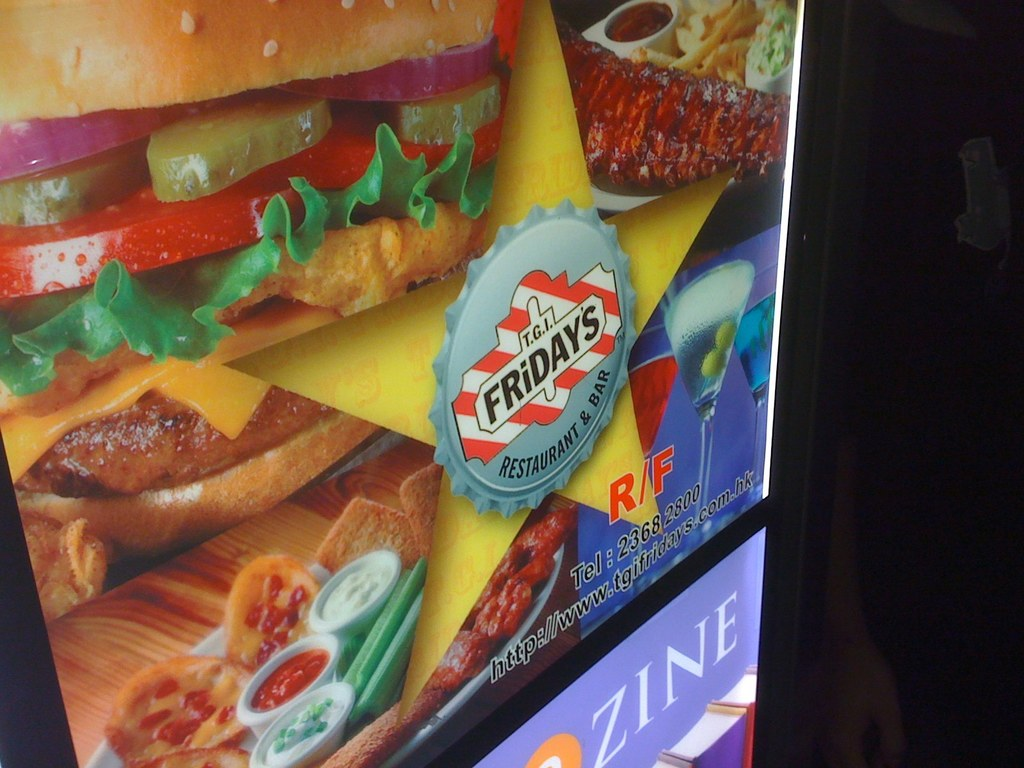Hamburger: (0, 0, 533, 430)
